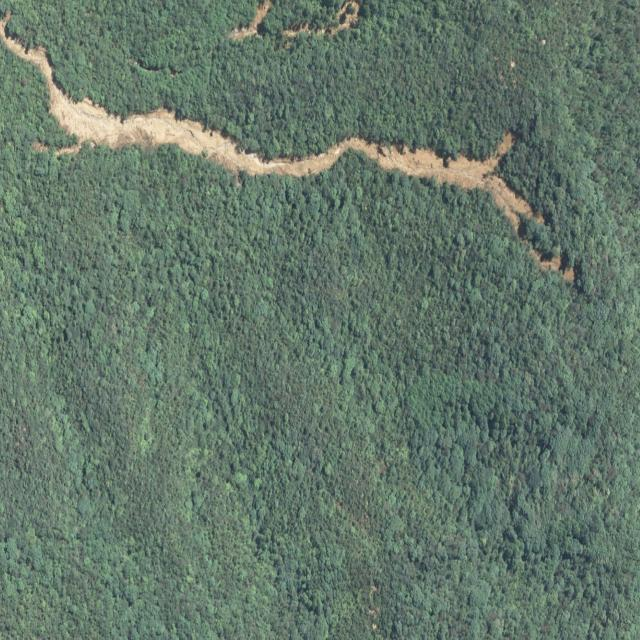landslide: (0, 11, 545, 232)
